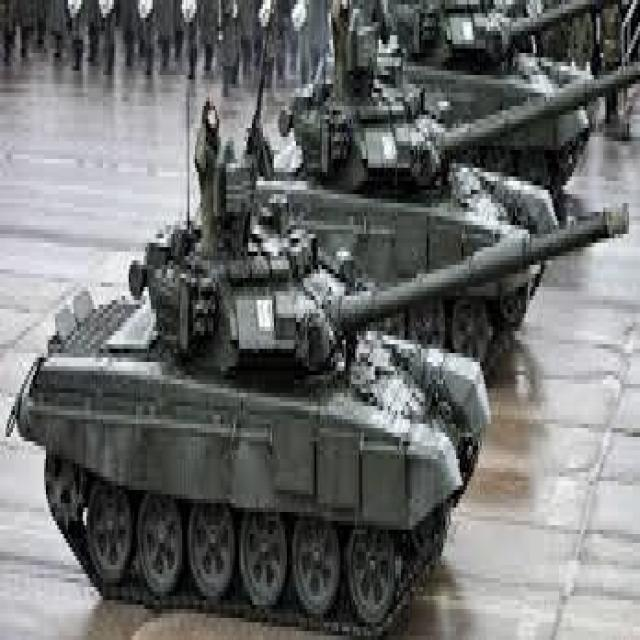Tanks: (17, 190, 494, 636), (283, 11, 561, 333), (405, 8, 606, 198)
